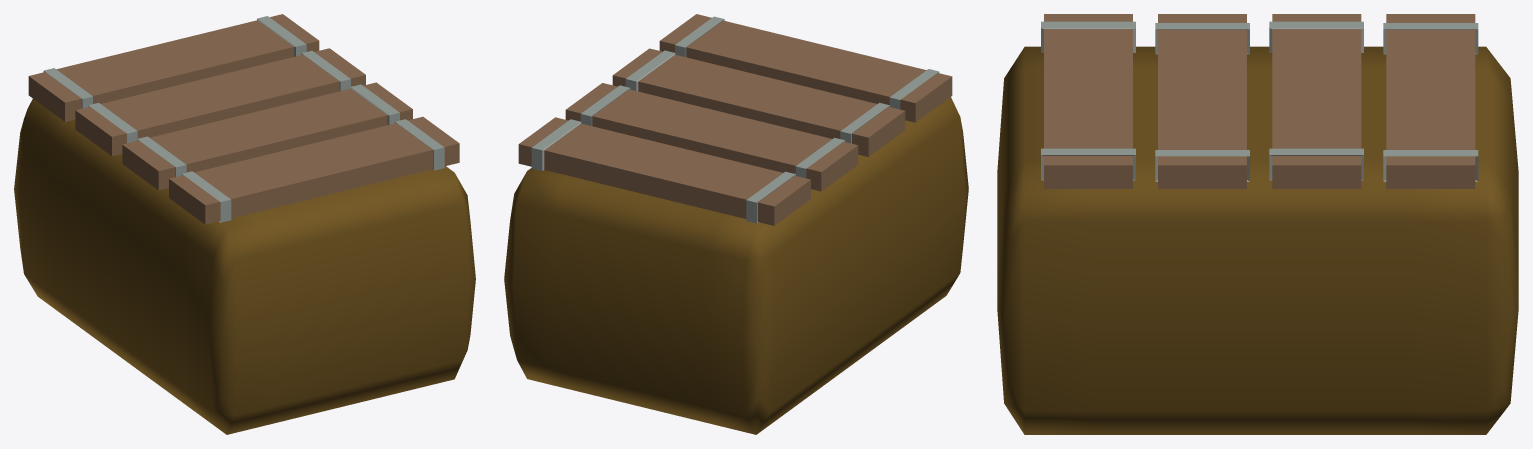
Rendered from Tablas.fbx.
3 renders of one model, left to right at view 1: azimuth 30°, elevation 25°; view 2: azimuth 150°, elevation 25°; view 3: azimuth 270°, elevation 25°, orthographic. The views are drawn at different scales.
Parts seen in each view (by area): view 1: pCube6, pCube17, pCube14, pCube15, pCube16; view 2: pCube6, pCube14, pCube17, pCube15, pCube16; view 3: pCube6, pCube14, pCube15, pCube17, pCube16.
Part boxes in pixels (box(x1,y1,x2,y2)): pCube6: box(14, 99, 475, 434); pCube17: box(169, 116, 459, 224); pCube14: box(28, 14, 319, 121); pCube15: box(75, 48, 365, 156); pCube16: box(122, 82, 412, 190); pCube6: box(504, 97, 968, 434); pCube14: box(518, 117, 810, 225); pCube17: box(659, 14, 952, 122); pCube15: box(565, 83, 858, 191); pCube16: box(612, 48, 905, 156); pCube6: box(997, 46, 1518, 434); pCube14: box(1383, 14, 1478, 188); pCube15: box(1269, 14, 1363, 188); pCube17: box(1041, 14, 1135, 188); pCube16: box(1155, 14, 1249, 188).
Bounding box in the file's own units: 4.88 × 4.03 × 6.85.
